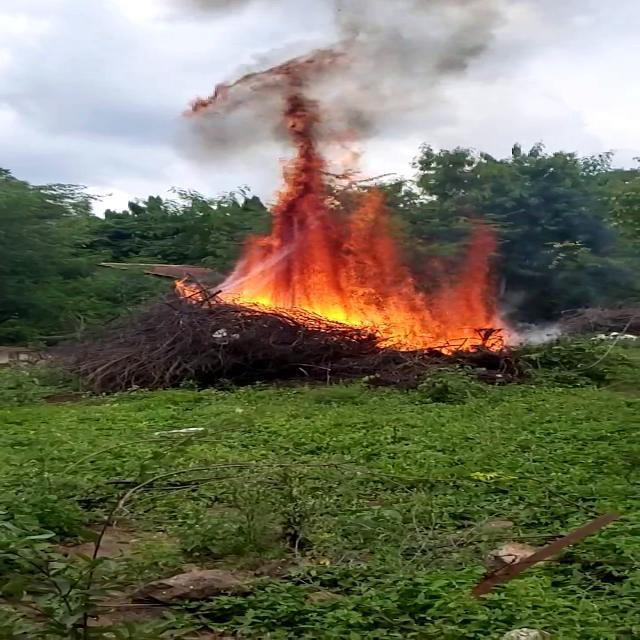Fire: (214, 230, 534, 354)
Smoke: (178, 0, 402, 221)
